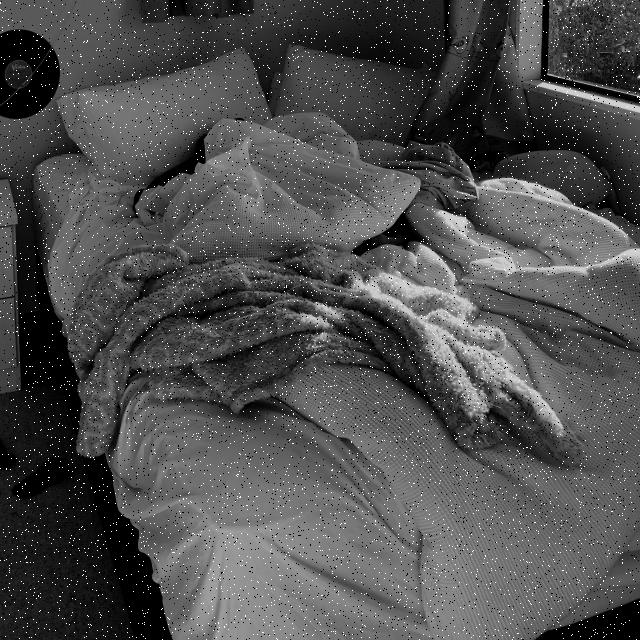bed: (33, 35, 640, 640)
